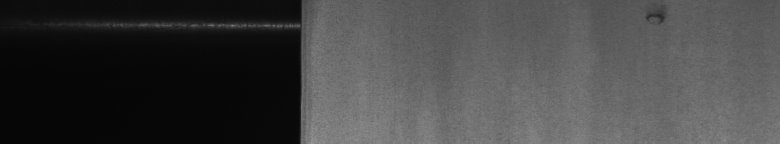fi: (644, 4, 668, 28)
